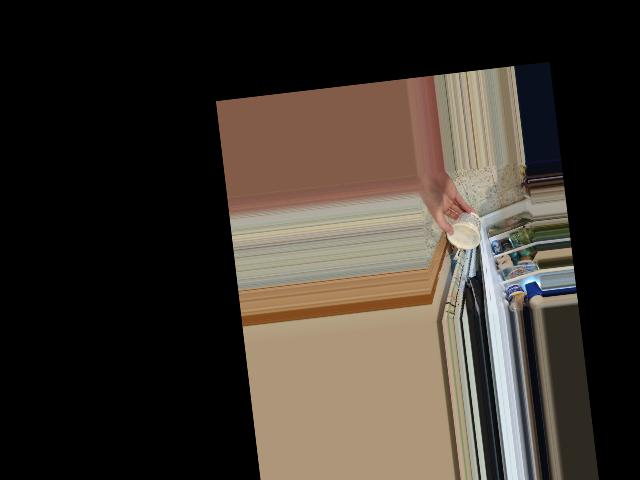cotage: (440, 207, 482, 251)
